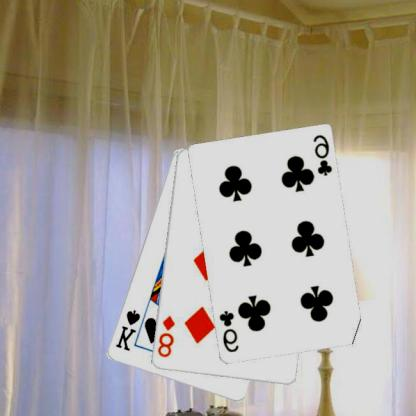6C: (218, 308, 242, 354), (312, 132, 334, 178)
8D: (156, 313, 178, 359)
KS: (114, 306, 143, 352)
